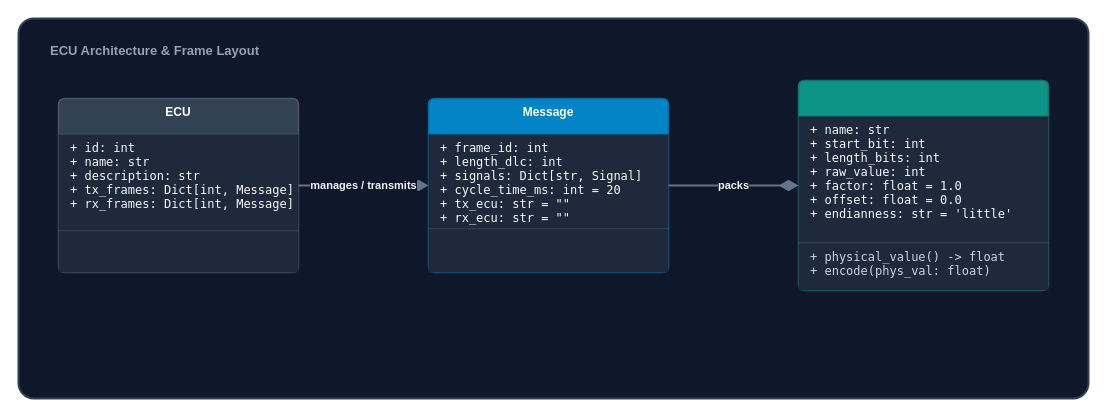
This 1106x416 diagram has some shape labels left out. Each missing label, with the box of its shape:
+ pack_payload() -> bytearray + unpack(raw: bytearray): (428, 229, 668, 272)
+ transmit(frame_id: int) + receive(frame_id: int): (58, 231, 298, 272)
Signal: (797, 79, 1049, 291)
